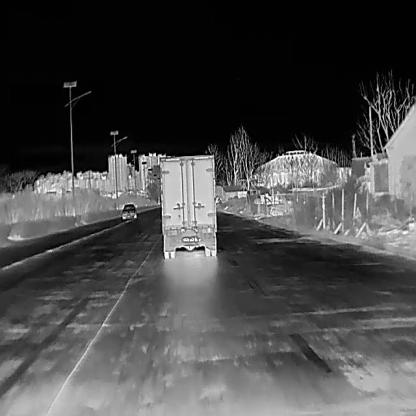car: (120, 201, 137, 219)
truck: (157, 152, 217, 258)
